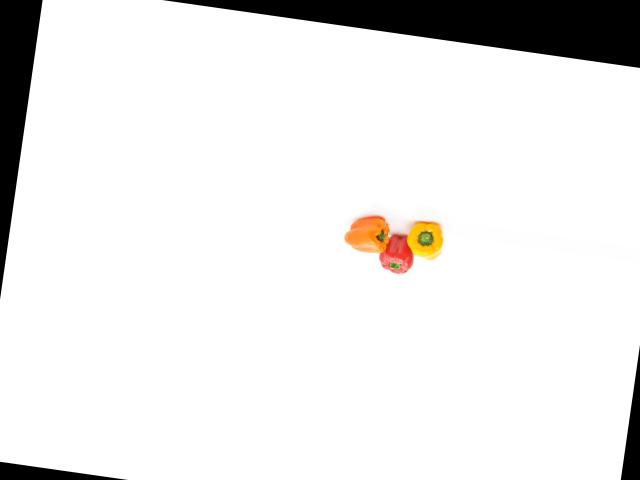bell_pepper: (399, 217, 448, 263)
